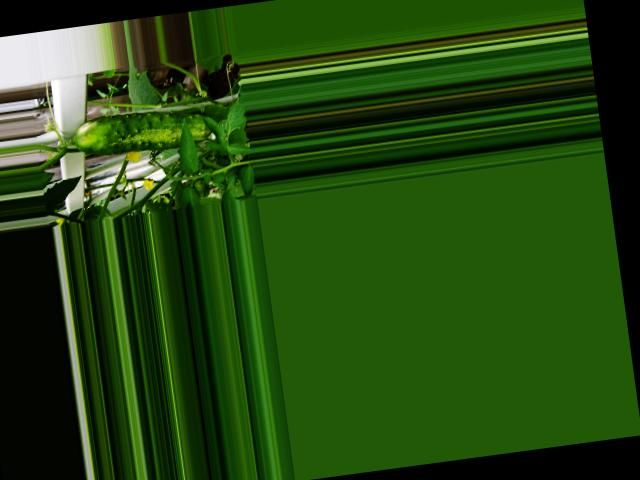cucumber: (70, 102, 211, 159)
